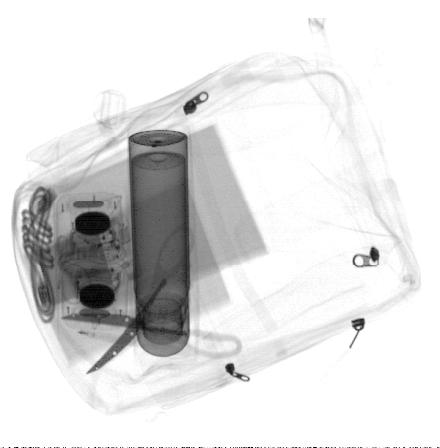Powerbank: (26, 210, 144, 323)
Scissors: (59, 224, 243, 376)
